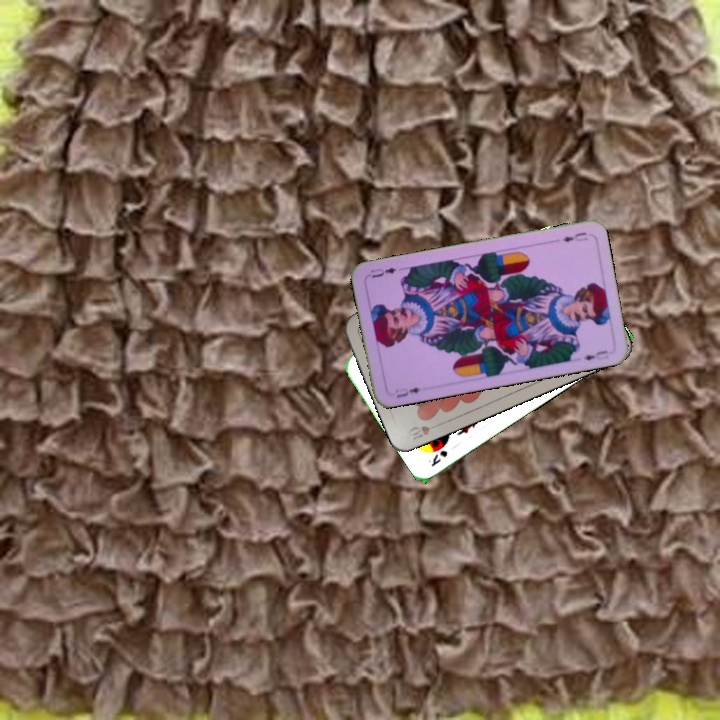EU: (392, 383, 424, 401), (559, 228, 590, 245)
H10: (404, 419, 443, 444)
SK: (424, 446, 450, 469)
